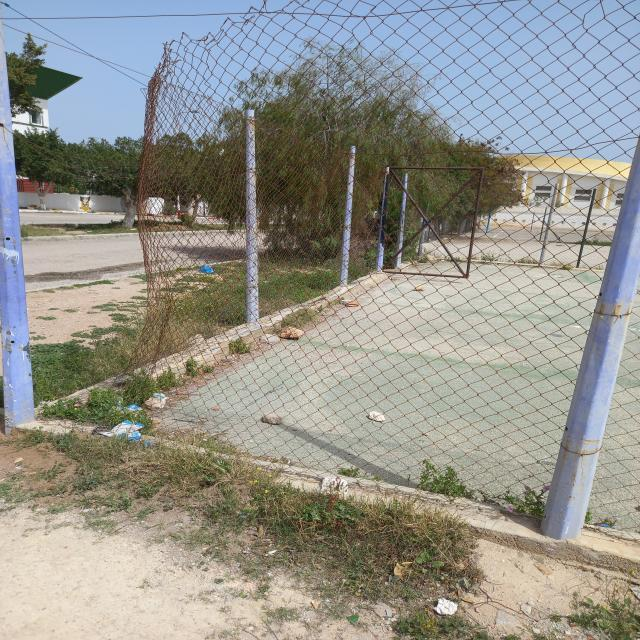fence line: (7, 32, 190, 420)
